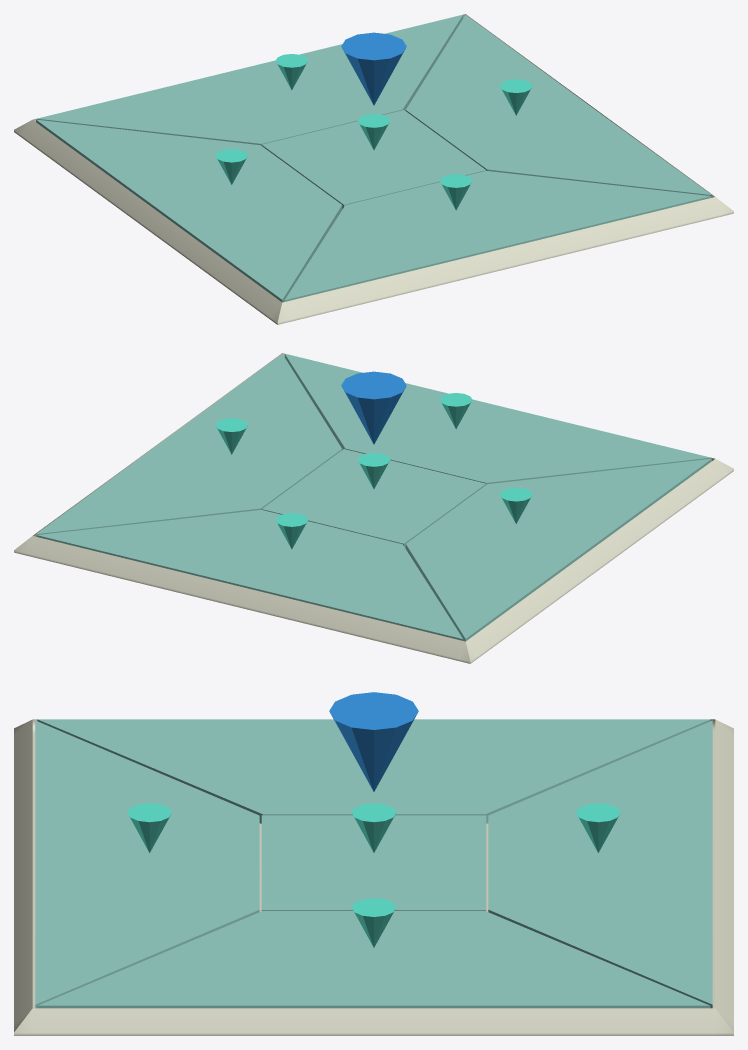
Rendered from Senso.fbx.
The picture shows the model from 3 angles, top to bottom: view 1: azimuth 30°, elevation 25°; view 2: azimuth 150°, elevation 25°; view 3: azimuth 270°, elevation 25°; orthographic projection. The views are drawn at different scales.
Parts seen in each view (by area): view 1: right, up, left, down, base, center, center_of_gravity_indicator, center_weight_indicator, left_weight_indicator, down_weight_indicator, up_weight_indicator, right_weight_indicator; view 2: right, down, left, up, base, center, center_of_gravity_indicator, center_weight_indicator, left_weight_indicator, down_weight_indicator, up_weight_indicator, right_weight_indicator; view 3: left, down, up, right, base, center, center_of_gravity_indicator, center_weight_indicator, left_weight_indicator, down_weight_indicator, up_weight_indicator.
Boxes of the visible parts, box(x1,y1,x2,y2) form: right: box(36, 119, 342, 302); up: box(284, 171, 711, 301); left: box(405, 15, 711, 197); down: box(36, 14, 463, 145); base: box(14, 14, 733, 324); center: box(261, 110, 486, 209); center_of_gravity_indicator: box(341, 32, 406, 105); center_weight_indicator: box(358, 114, 389, 149); left_weight_indicator: box(500, 79, 532, 115); down_weight_indicator: box(275, 54, 307, 90); up_weight_indicator: box(440, 174, 472, 210); right_weight_indicator: box(215, 148, 247, 184); right: box(405, 458, 711, 641); down: box(36, 510, 463, 640); left: box(36, 354, 342, 536); up: box(284, 353, 711, 484); base: box(14, 353, 733, 663); center: box(261, 449, 486, 548); center_of_gravity_indicator: box(341, 371, 406, 444); center_weight_indicator: box(358, 453, 389, 488); left_weight_indicator: box(215, 418, 247, 454); down_weight_indicator: box(275, 513, 307, 549); up_weight_indicator: box(440, 393, 472, 429); right_weight_indicator: box(500, 487, 532, 523); left: box(37, 911, 710, 1008); down: box(488, 720, 712, 1008); up: box(35, 720, 259, 1008); right: box(37, 719, 710, 823); base: box(14, 719, 733, 1035); center: box(261, 815, 486, 910); center_of_gravity_indicator: box(329, 692, 418, 791); center_weight_indicator: box(351, 803, 396, 852); left_weight_indicator: box(351, 898, 396, 947); down_weight_indicator: box(576, 803, 620, 852); up_weight_indicator: box(127, 803, 171, 852).
Size of the model in its own units: 9.63 by 2.55 by 9.63.
